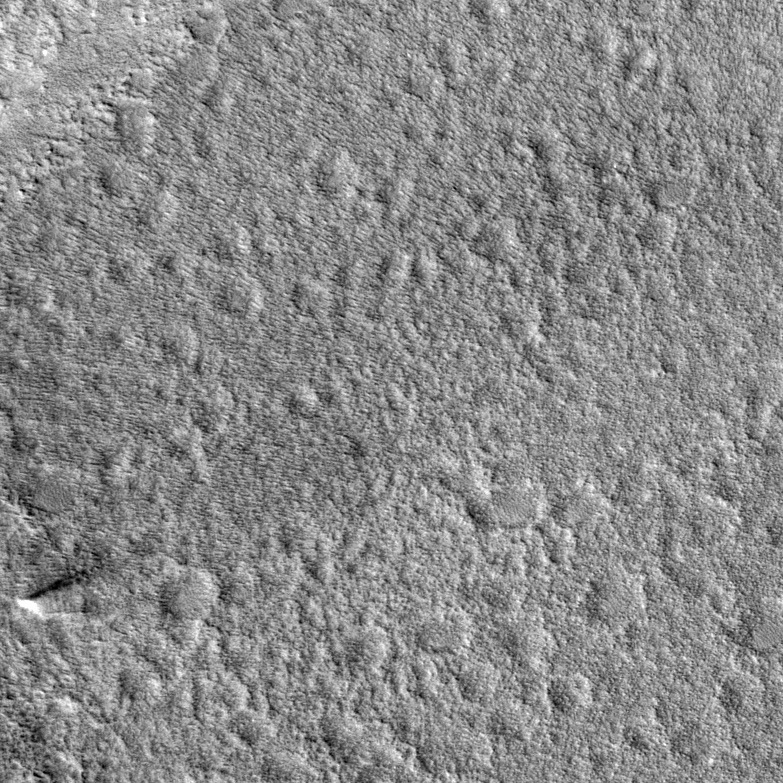dust_devil: (15, 567, 94, 619)
